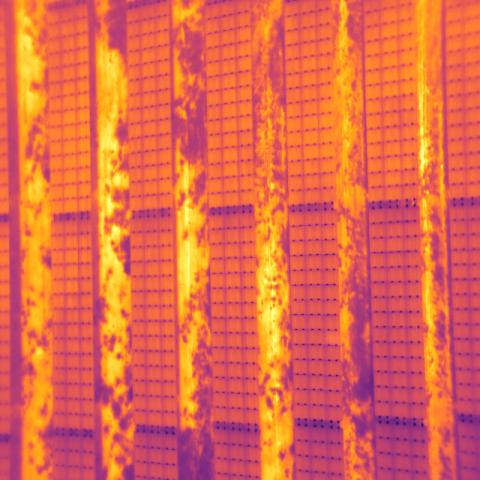fault: (323, 331, 340, 346)
